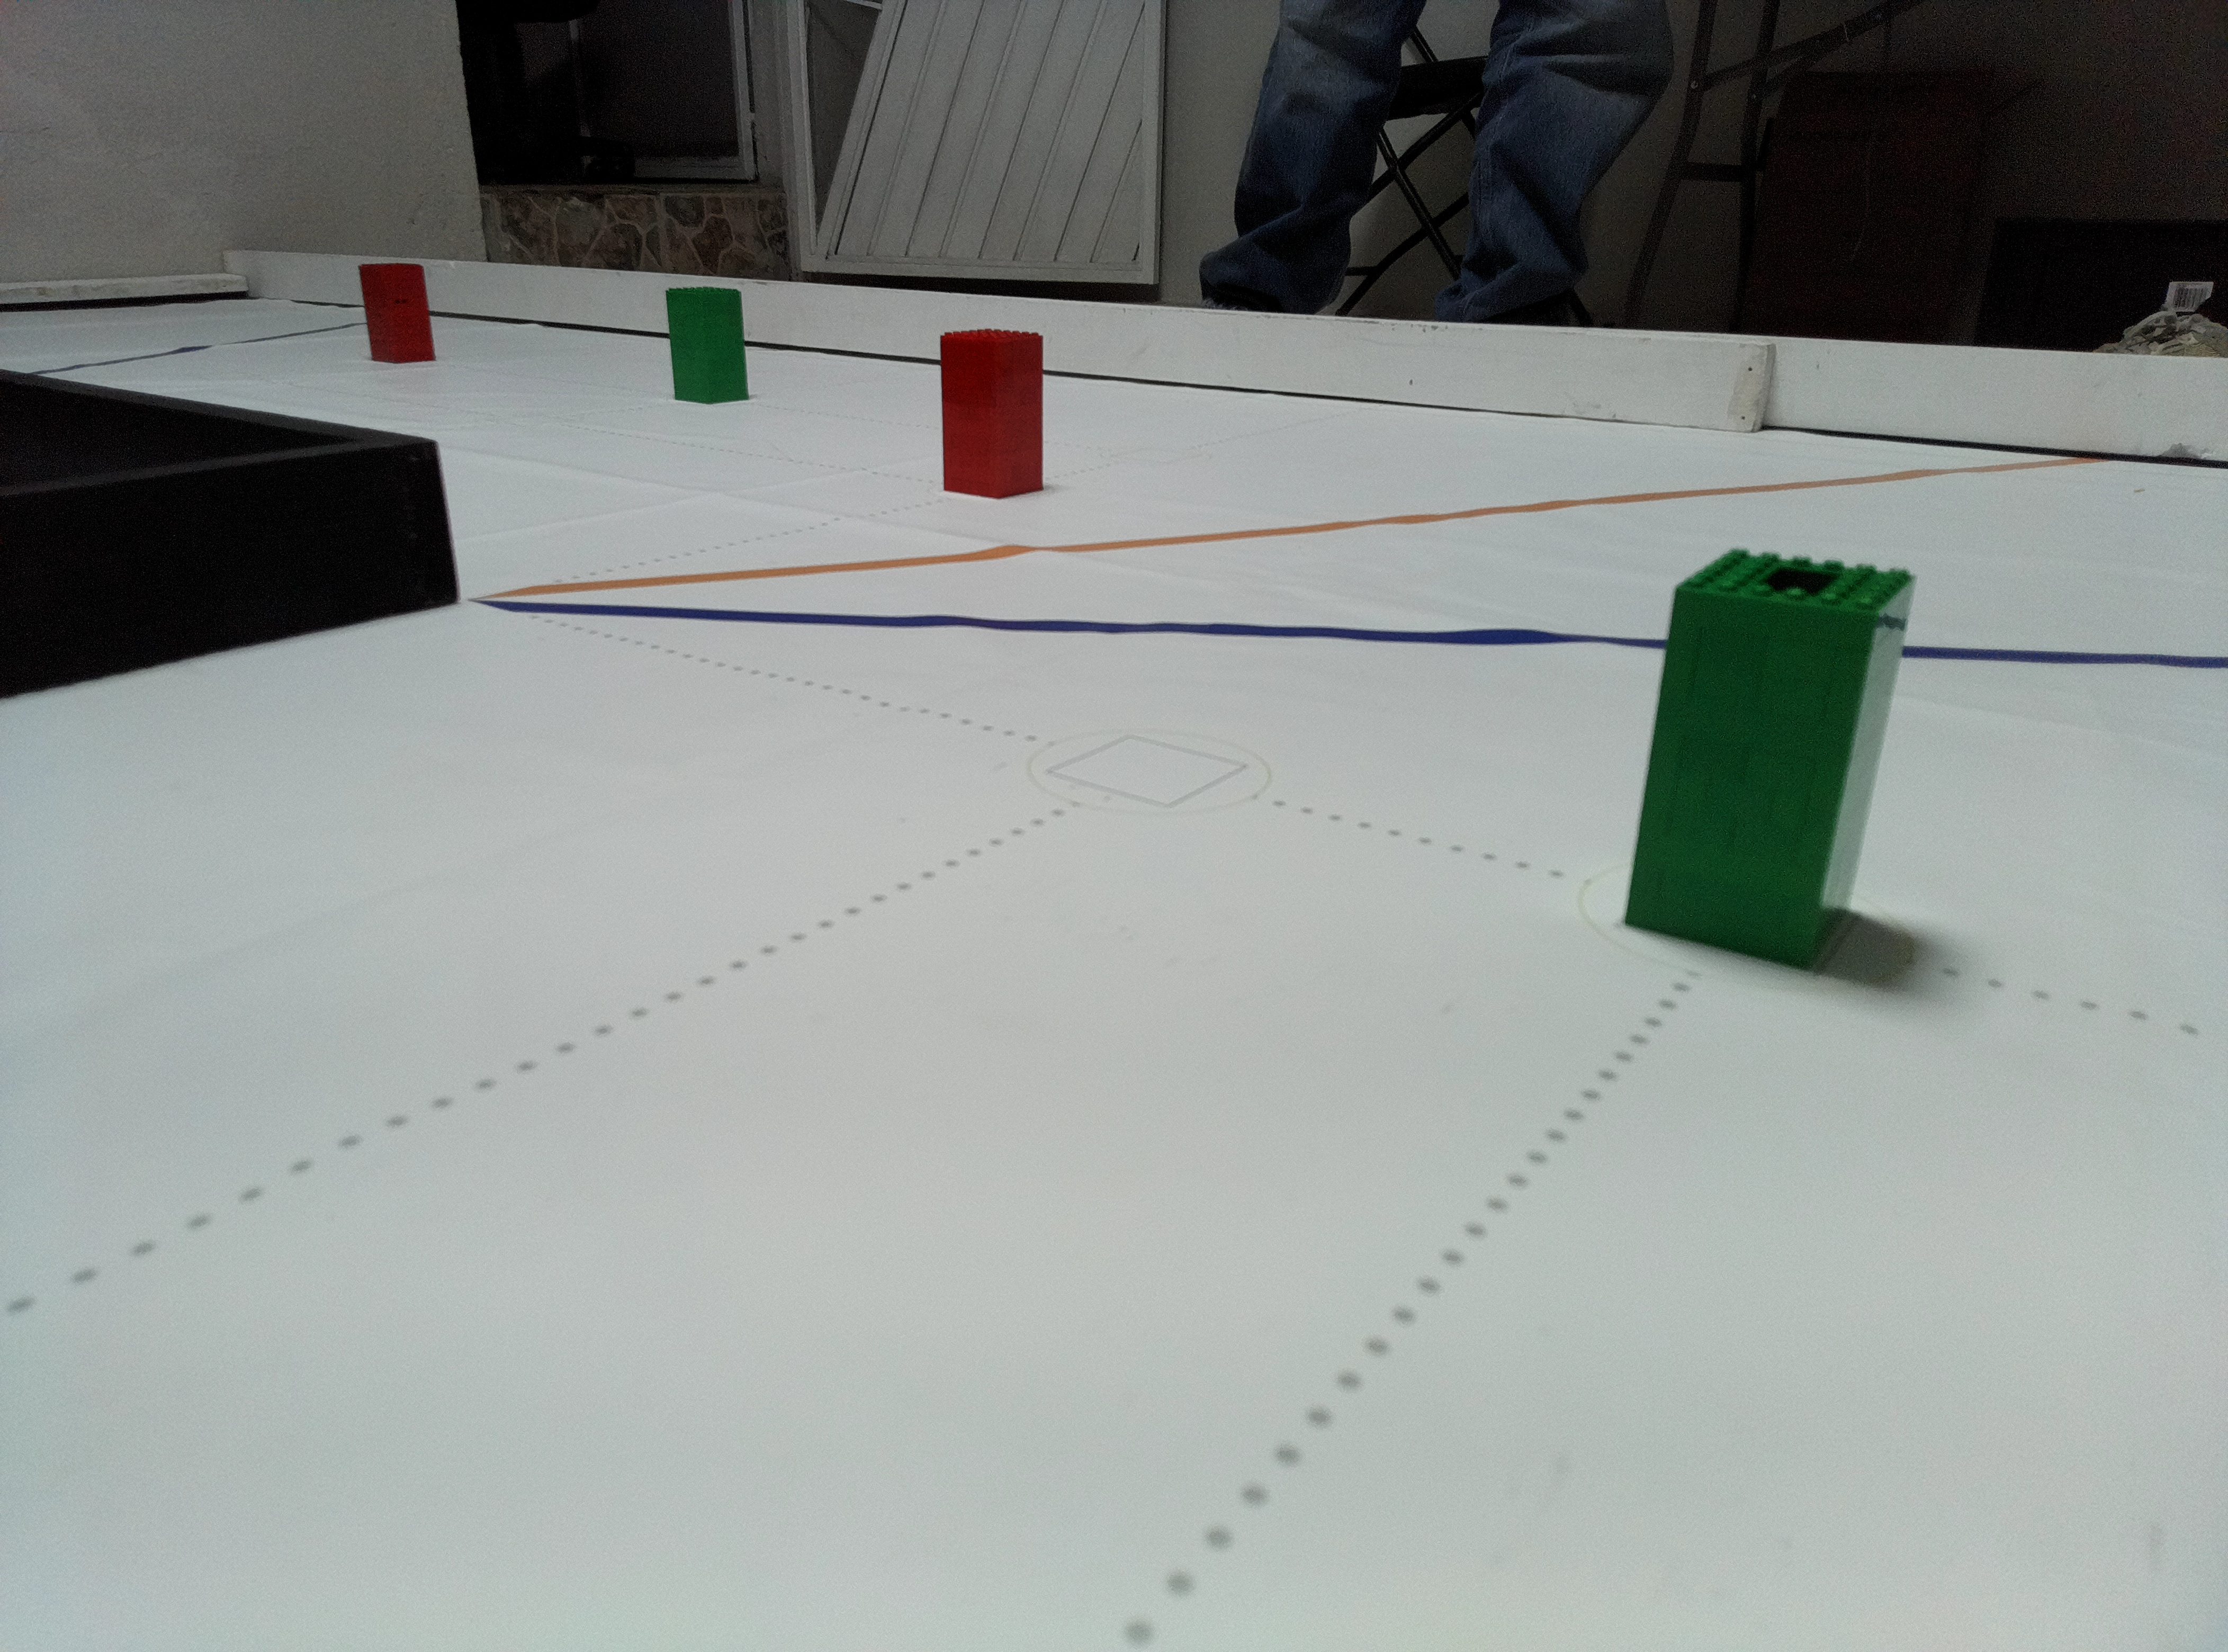greenbox: (1621, 545, 1921, 961), (666, 283, 751, 410)
redbox: (934, 326, 1045, 496), (354, 259, 441, 364)
